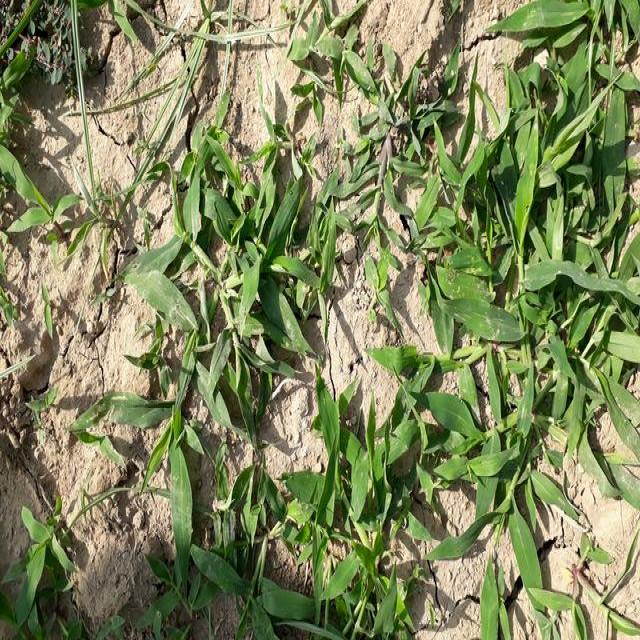weed: (427, 4, 640, 640), (126, 172, 302, 554), (326, 38, 450, 328), (317, 409, 446, 640)
